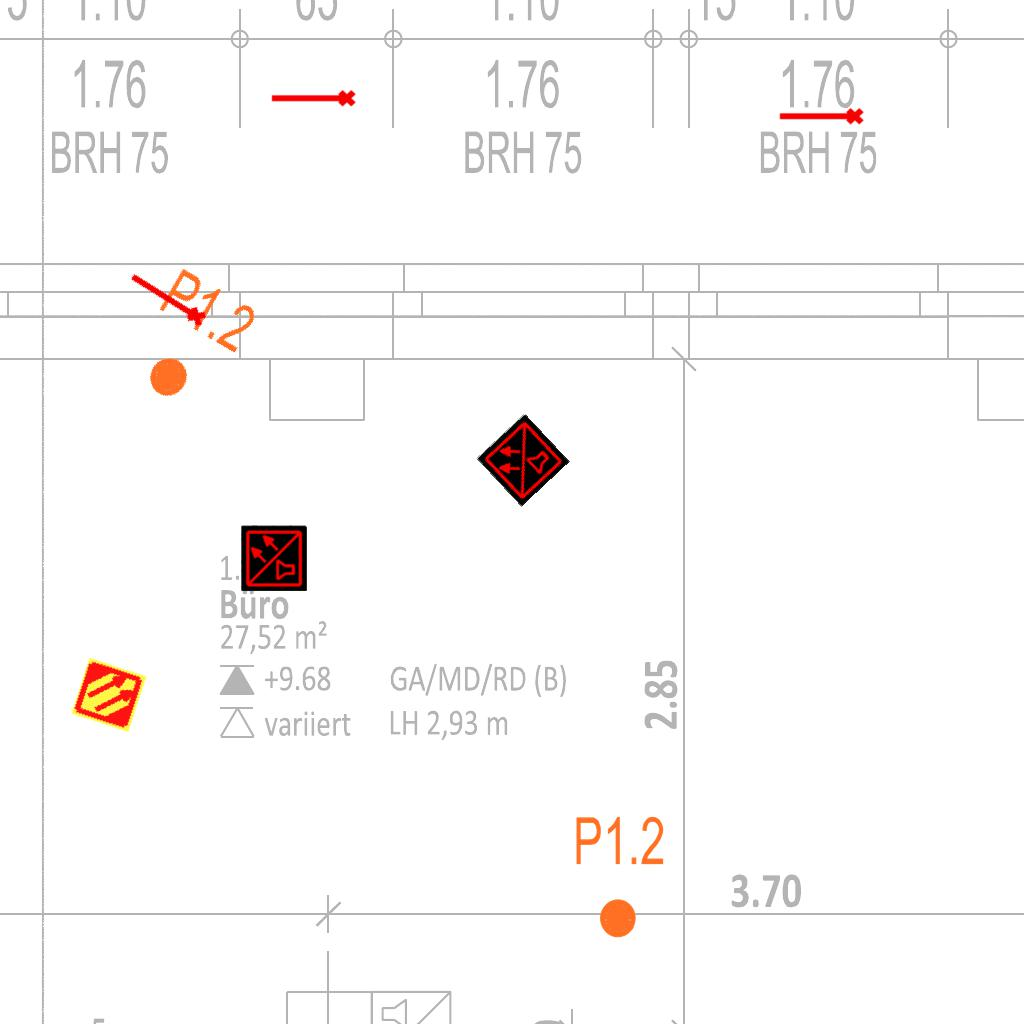ASR_Ansaugoeffnung: (123, 266, 211, 333), (269, 88, 357, 111), (777, 106, 865, 129)
ASR_Ansaugrauchmelder: (69, 655, 149, 735)
Downlight_LED_Einbauleuchten_Flur: (118, 263, 263, 421), (573, 813, 666, 941)
OKW_Multisensormelder_(Kombination_optischer_Rauch-Kahlenmonoxid_Waerme-Melder): (476, 413, 570, 507), (241, 525, 307, 591)
